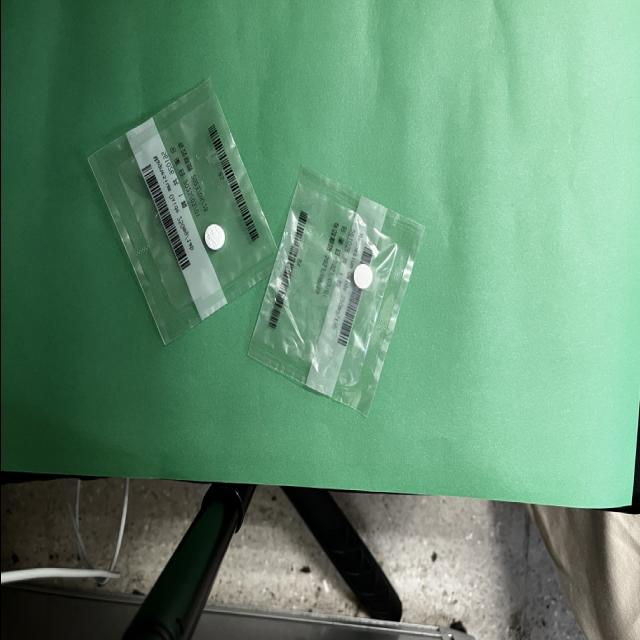Other Objects: (87, 82, 276, 345), (250, 169, 421, 415)
